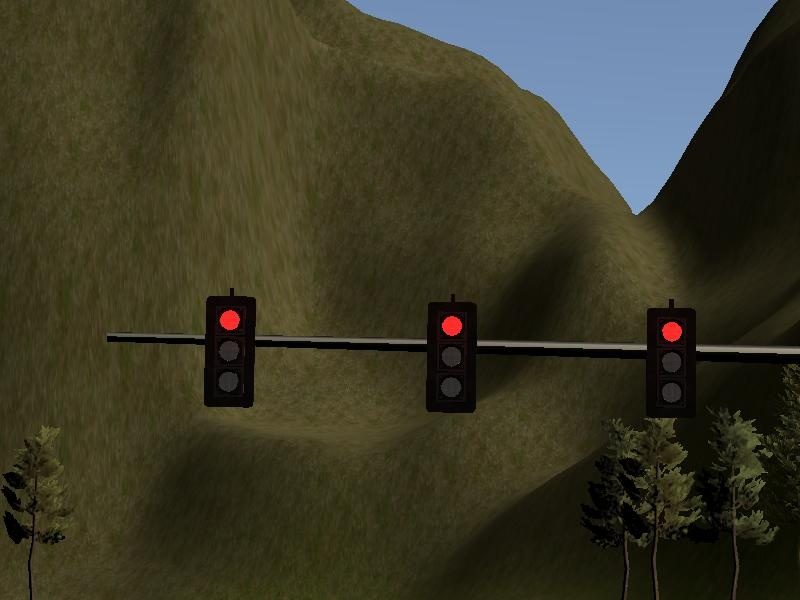red: (421, 299, 483, 417), (643, 306, 703, 423), (203, 293, 260, 414)
